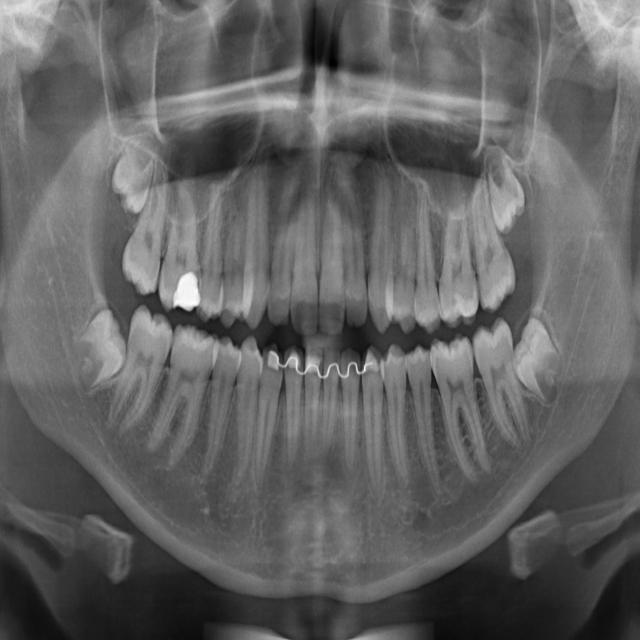CompositeResinRestoration: (174, 268, 201, 314), (449, 286, 470, 326)
DentalCaries: (189, 252, 201, 292)
